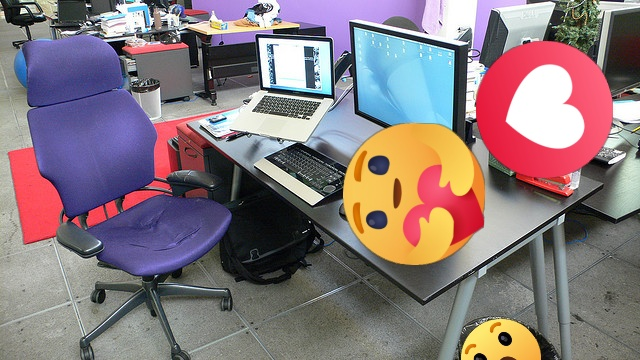care: (343, 123, 485, 265)
love: (476, 41, 613, 178)
wow: (461, 319, 541, 360)
